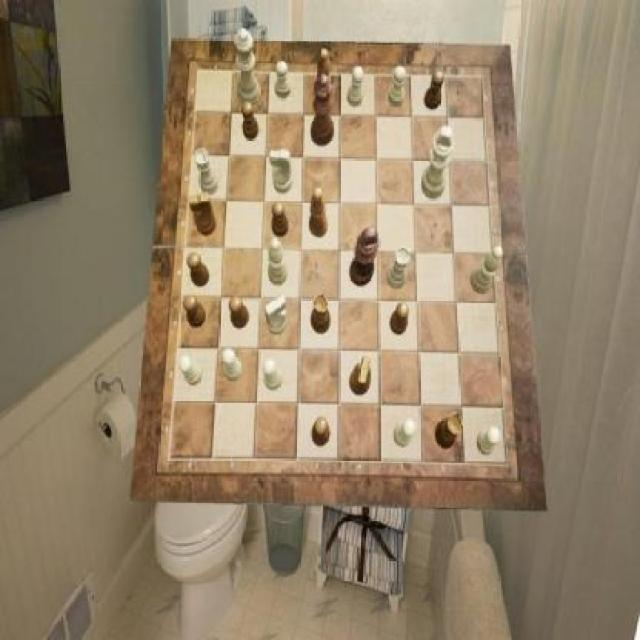bishop: (315, 48, 333, 108), (310, 188, 328, 238)
black-bishop: (349, 228, 379, 286)
black-king: (189, 192, 217, 236), (349, 357, 372, 397)
black-knight: (424, 71, 444, 111), (188, 252, 210, 287), (185, 296, 207, 330), (229, 297, 249, 331), (391, 302, 411, 336), (272, 202, 290, 238), (242, 102, 259, 140), (313, 417, 332, 446)
black-pawn: (310, 74, 334, 148)
black-queen: (435, 412, 463, 450), (311, 294, 331, 335)
black-rook: (470, 246, 502, 294), (268, 239, 288, 286)
white-bishop: (422, 126, 454, 200)
white-king: (269, 149, 293, 195), (265, 294, 287, 335)
white-knight: (178, 356, 202, 386), (388, 66, 405, 108), (223, 348, 243, 382), (348, 66, 364, 108), (263, 360, 283, 392), (477, 428, 500, 455), (394, 420, 416, 448), (276, 62, 292, 99)
white-pawn: (234, 28, 260, 106)
white-queen: (194, 149, 218, 197), (388, 248, 410, 290)
